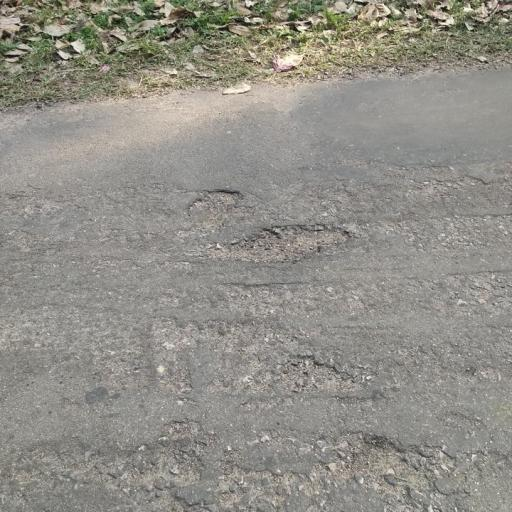pothole: (219, 222, 352, 262), (334, 431, 414, 491), (273, 352, 361, 394), (142, 447, 206, 485), (185, 185, 243, 217)
